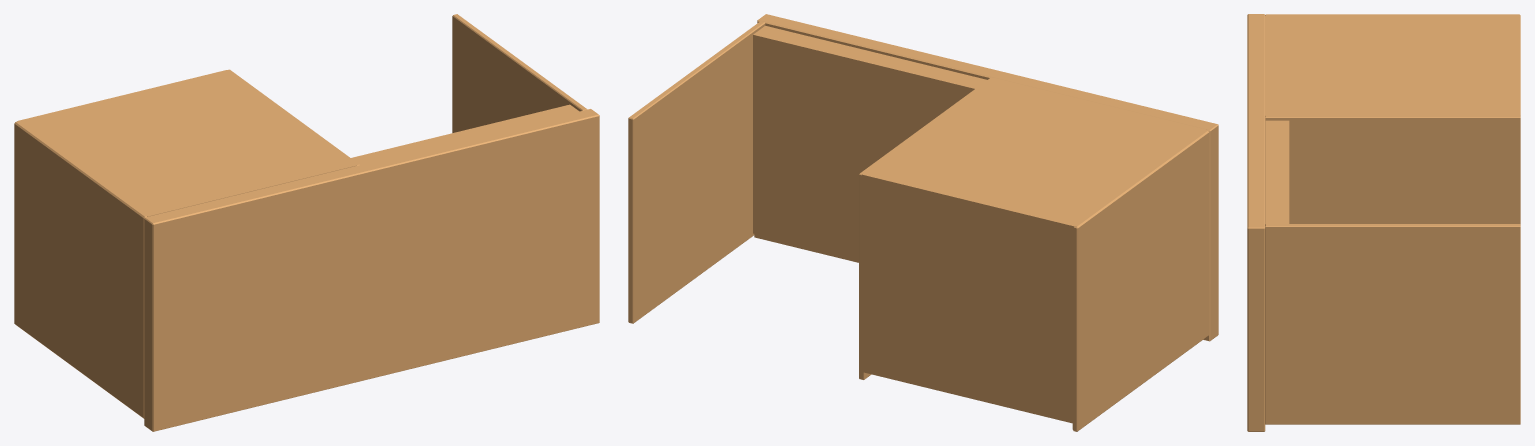
The model's file is Fp314_Studydesk3Desk_314_0.obj.
The picture shows the model from 3 angles, left to right: view 1: azimuth 30°, elevation 25°; view 2: azimuth 150°, elevation 25°; view 3: azimuth 270°, elevation 25°; orthographic projection. The views are drawn at different scales.
Parts seen in each view (by area): view 1: Desk_314; view 2: Desk_314; view 3: Desk_314.
Part boxes in pixels (bbox=[...]): Desk_314: bbox=[14, 14, 599, 431]; Desk_314: bbox=[628, 14, 1218, 431]; Desk_314: bbox=[1247, 14, 1520, 431].
Size of the model in its own units: 1.71 by 0.7629 by 0.9244.
